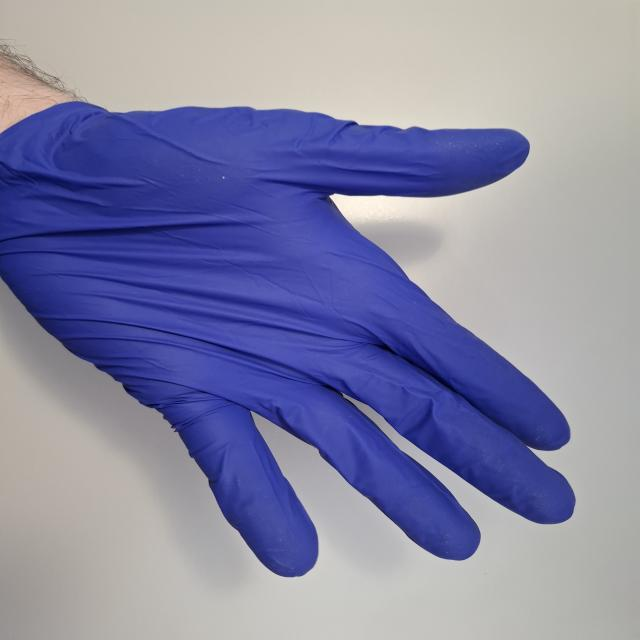glove_on: (0, 91, 583, 581)
